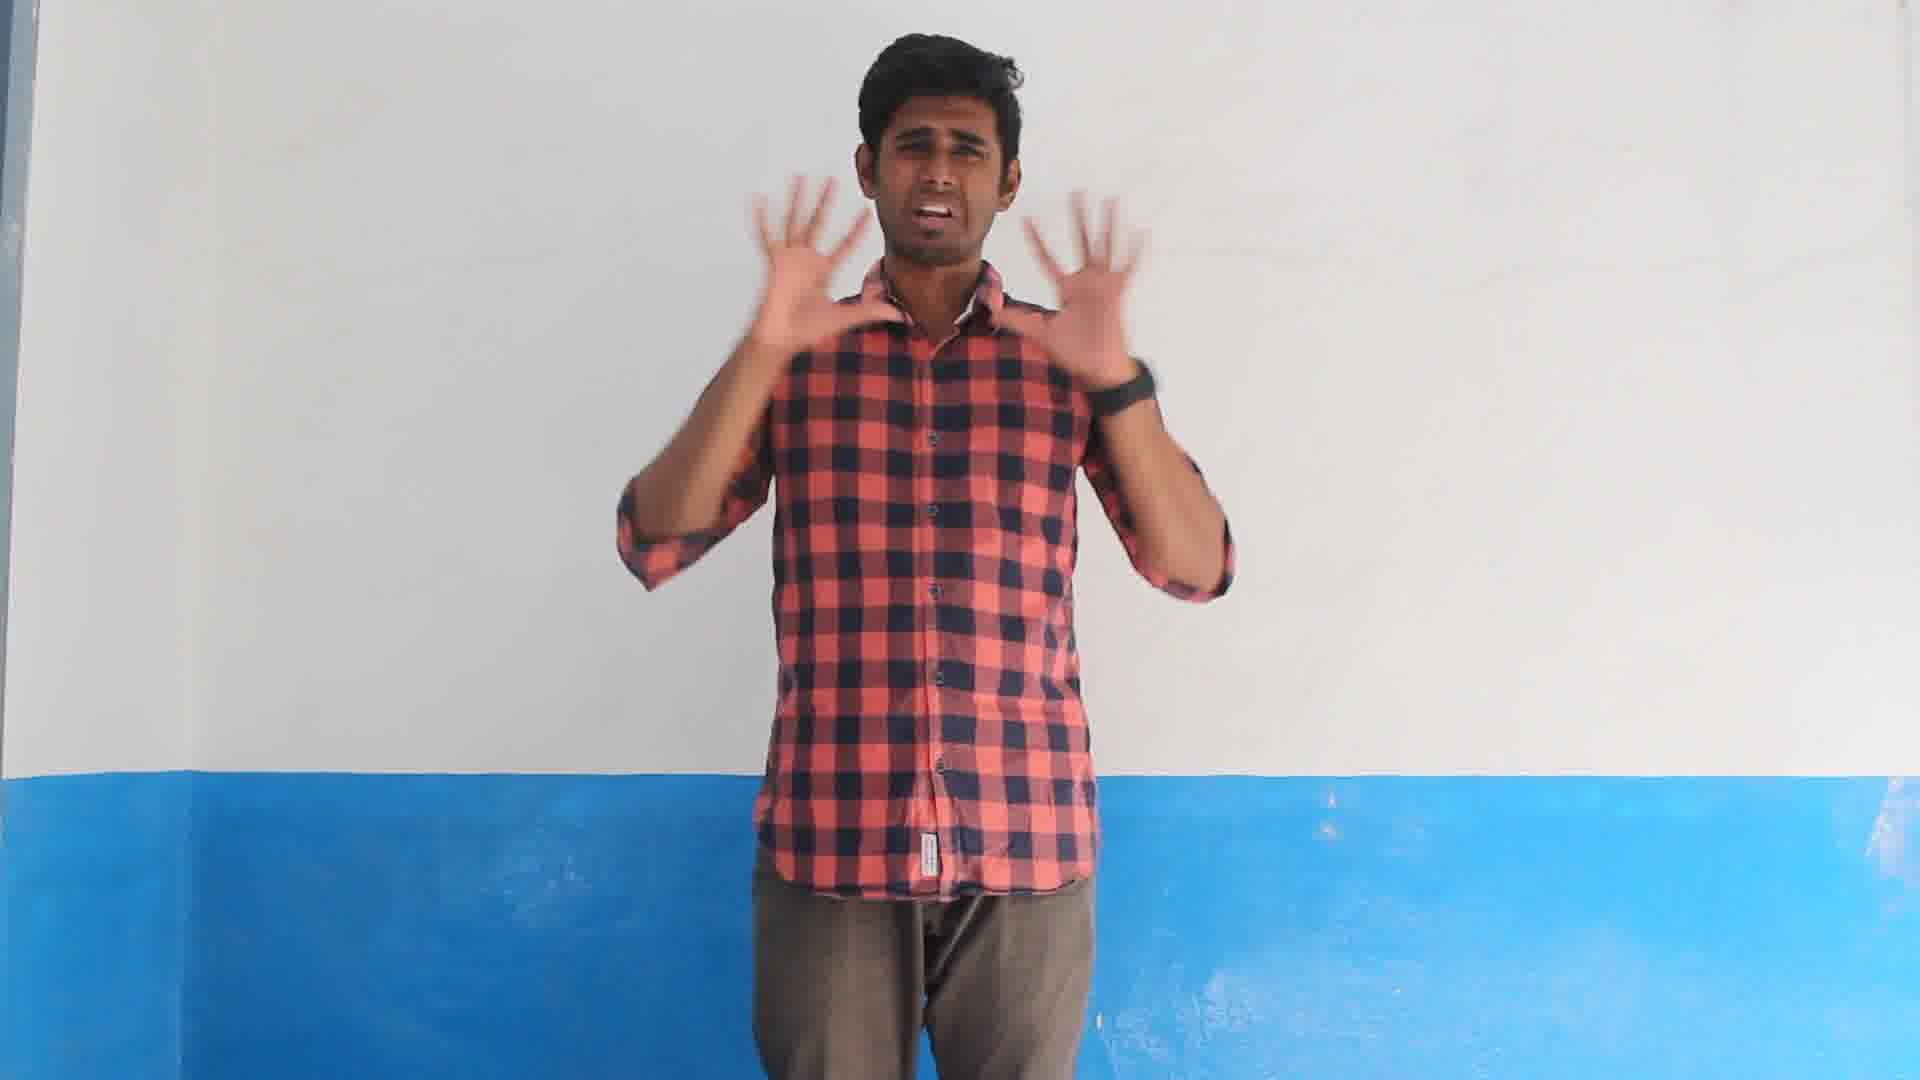loud: (684, 156, 1156, 400)
